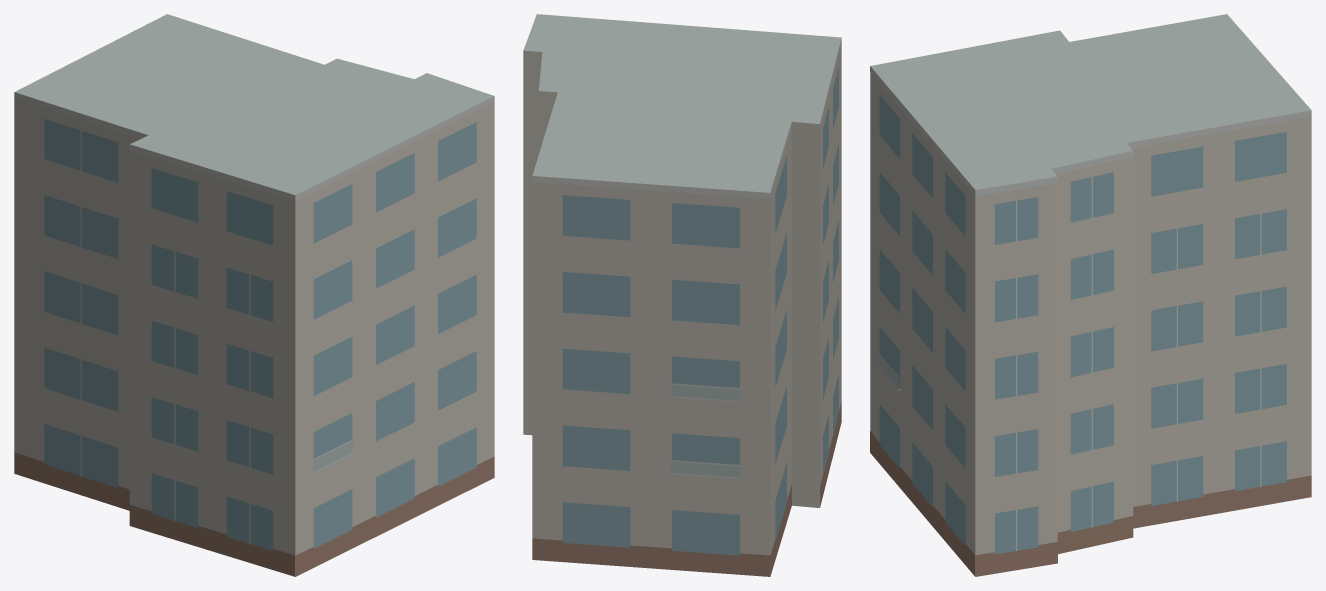
The model's file is survey-upis-32585416.glb.
The picture shows the model from 3 angles, left to right: view 1: azimuth 30°, elevation 25°; view 2: azimuth 150°, elevation 25°; view 3: azimuth 270°, elevation 25°; orthographic projection.
Parts seen in each view (by area): view 1: survey-upis-32585416.tmp; view 2: survey-upis-32585416.tmp; view 3: survey-upis-32585416.tmp.
Part boxes in pixels (x1=…): survey-upis-32585416.tmp: x1=14, y1=14, x2=494, y2=576; survey-upis-32585416.tmp: x1=523, y1=14, x2=841, y2=576; survey-upis-32585416.tmp: x1=870, y1=14, x2=1311, y2=576.
Size of the model in its own units: 14.95 by 15.3 by 15.84.
